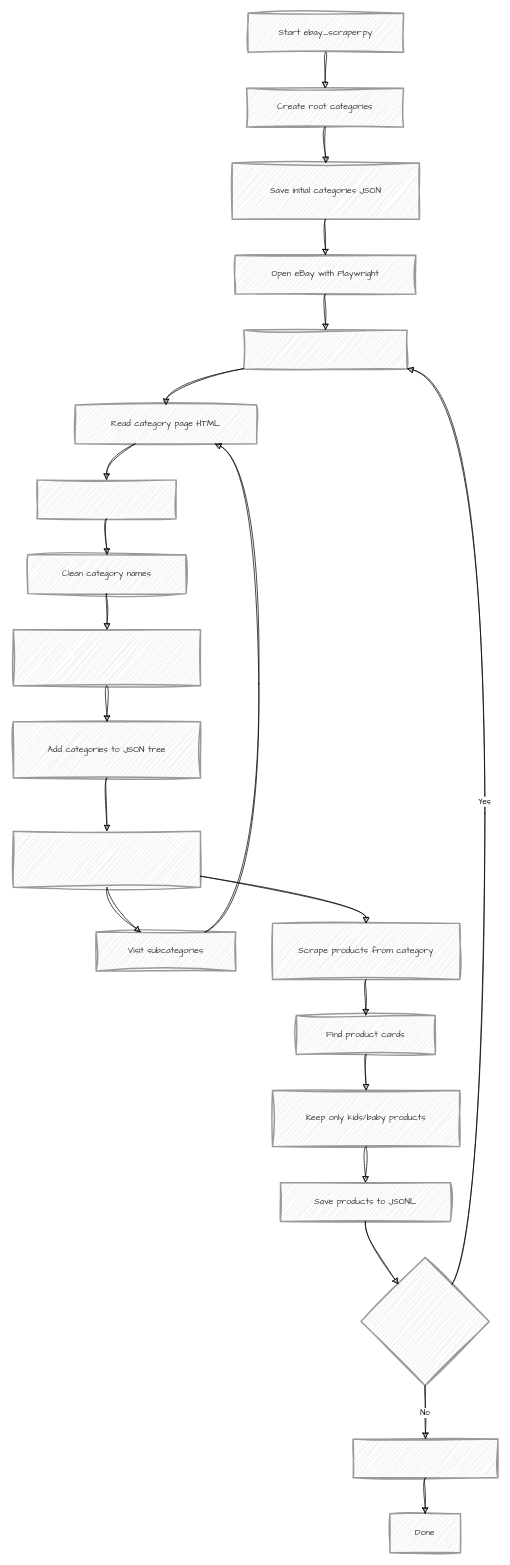
This 510x1565 diagram has some shape labels left out. The shapes that lost their labels are listed below. From the top down, each one's centre as x and y in pixels, then its label:
At [325,349]: "Visit each root category".
At [106,499]: "Find category links".
At [106,657]: "Keep only kids/baby categories".
At [106,859]: "Save ebay_kids_categories.json".
At [425,1321]: "More categories?".
At [425,1458]: "Save final summary".
